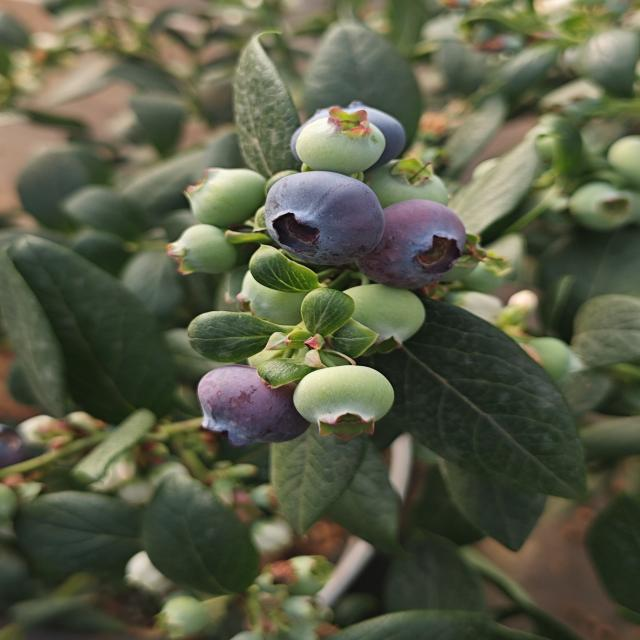ripe: (262, 170, 388, 268), (356, 198, 468, 290), (194, 363, 311, 448), (286, 100, 408, 170)
